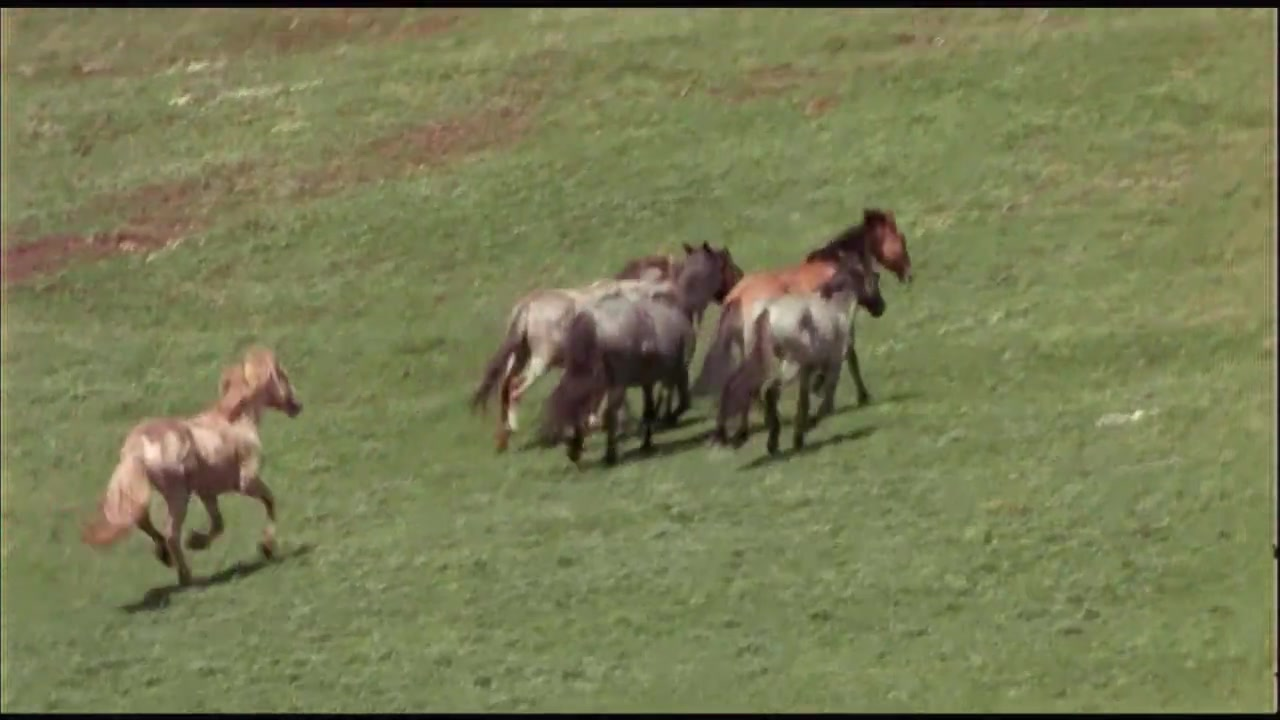horse: (105, 350, 308, 596)
